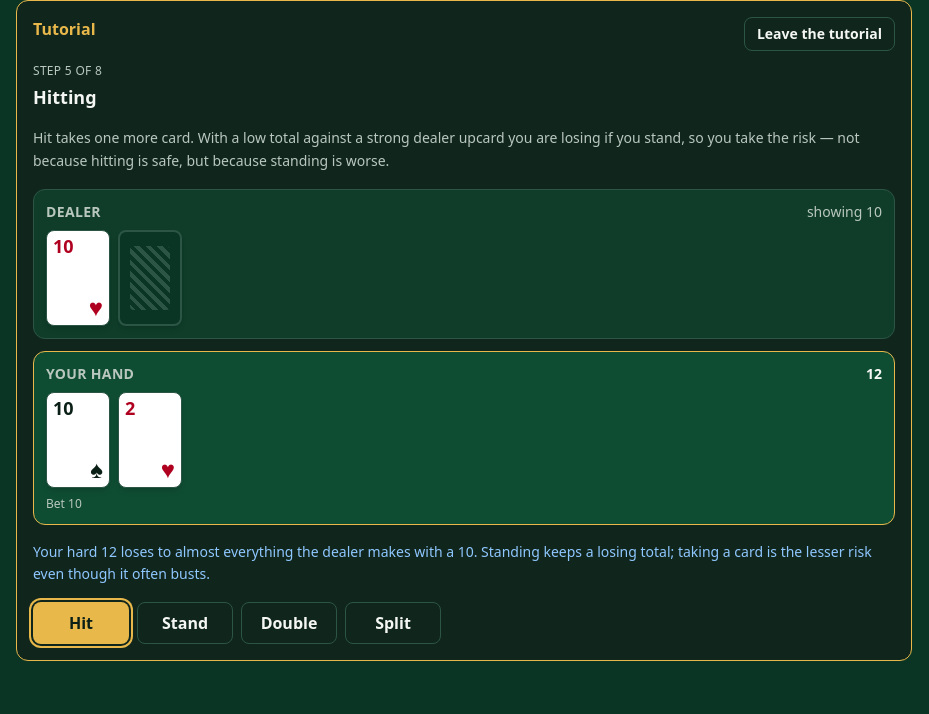
LessonStep (FR-047) › gates the step on the taught action — a wrong action does not advance
This screenshot has width=929, height=714.
Click the button "Stand" at (185, 623), box top-left (137, 602), bottom-right (233, 644)
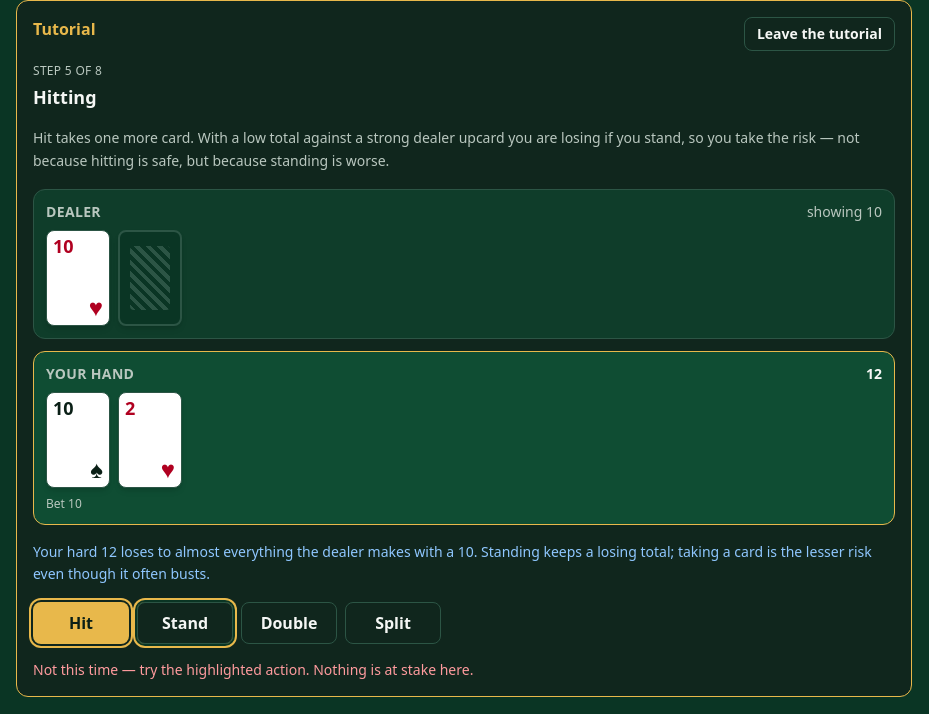
Check: the heading with test id "lesson-title" reads "Hitting", box top-left (33, 85), bottom-right (97, 109)
Check: the text with test id "lesson-retry" is shown, box top-left (33, 660), bottom-right (473, 679)
